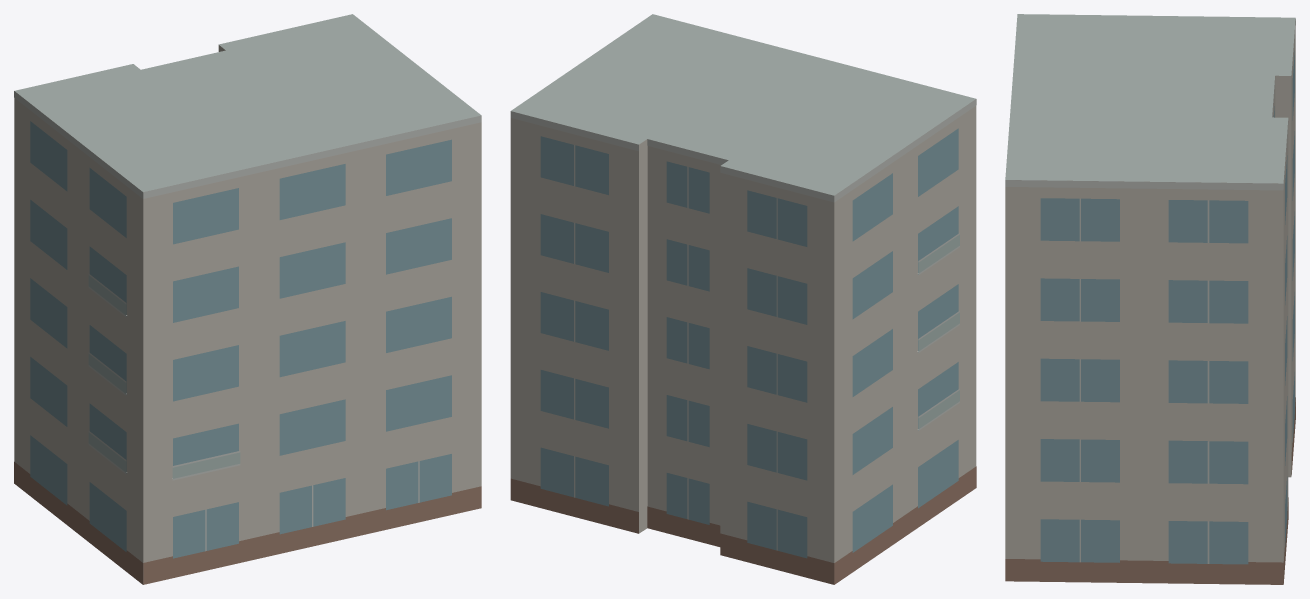
The model's file is survey-upis-32719127.glb.
3 views of the same model, side by side, from view 1: azimuth 30°, elevation 25°; view 2: azimuth 150°, elevation 25°; view 3: azimuth 270°, elevation 25° (orthographic). The views are drawn at different scales.
Parts seen in each view (by area): view 1: survey-upis-32719127.tmp; view 2: survey-upis-32719127.tmp; view 3: survey-upis-32719127.tmp.
Part boxes in pixels (x1,y1,x2,y2): survey-upis-32719127.tmp: (14,14,481,584); survey-upis-32719127.tmp: (510,14,976,584); survey-upis-32719127.tmp: (1005,14,1295,584).
Bounding box in the file's own units: 12.78 × 14.1 × 9.26.
